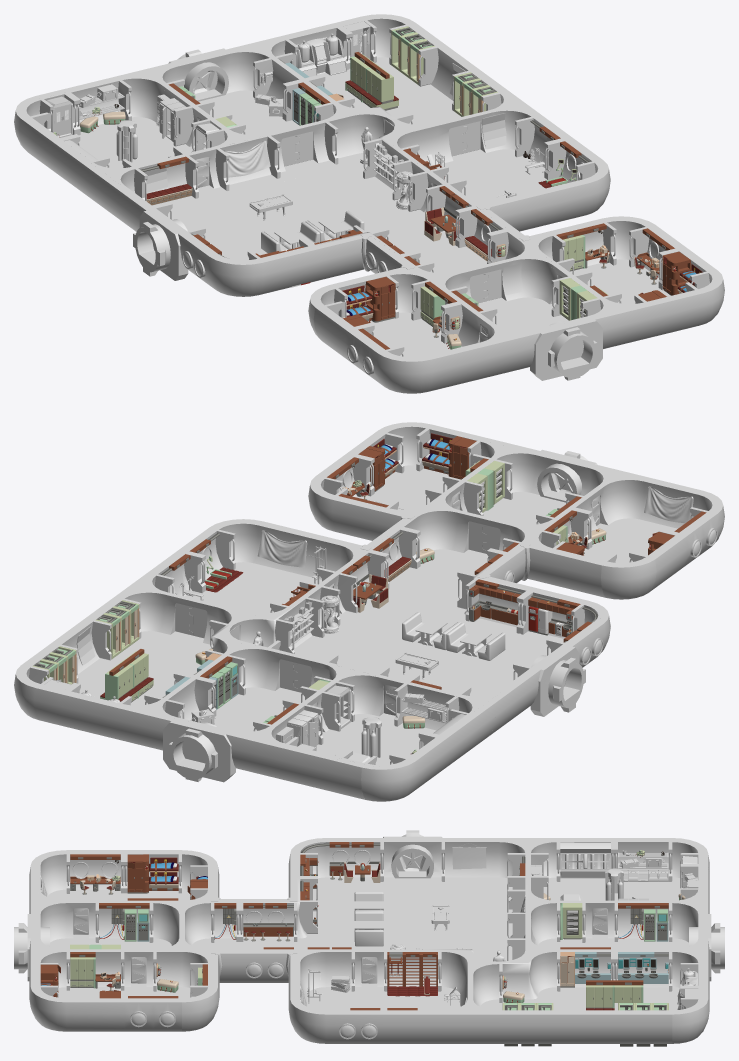
File: level_1.fbx
The picture shows the model from 3 angles, top to bottom: view 1: azimuth 30°, elevation 25°; view 2: azimuth 150°, elevation 25°; view 3: azimuth 270°, elevation 25°; orthographic projection. The views are drawn at different scales.
Visible parts, largest first — view 1: M_1_INTERIOR_WALL, M_1_EXTERIOR_WALL, M_1_POL, M_1_INT_DOOR, M_1_INT_DOOR.003, M_1_INT_DOOR.005, M_1_USE_OBJECT, M_1_USE_OBJECT.002; view 2: M_1_INTERIOR_WALL, M_1_EXTERIOR_WALL, M_1_POL, M_1_INT_DOOR.003, M_1_INT_DOOR.005, M_1_INT_DOOR, M_1_USE_OBJECT; view 3: M_1_INTERIOR_WALL, M_1_EXTERIOR_WALL, M_1_POL, M_1_USE_OBJECT.001, M_1_USE_OBJECT, M_1_USE_OBJECT.003, M_1_INT_DOOR.004, M_1_INT_DOOR.006, M_1_INT_DOOR.001, M_1_INT_DOOR.007.
Part boxes in pixels (x1,y1,x2,y2): M_1_INTERIOR_WALL: (23,17,715,380); M_1_EXTERIOR_WALL: (14,14,724,393); M_1_POL: (79,57,670,353); M_1_INT_DOOR: (281,131,313,166); M_1_INT_DOOR.003: (448,121,480,156); M_1_INT_DOOR.005: (469,269,501,303); M_1_USE_OBJECT: (116,120,137,162); M_1_USE_OBJECT.002: (344,21,370,59); M_1_INTERIOR_WALL: (23,425,715,782); M_1_EXTERIOR_WALL: (14,422,724,801); M_1_POL: (77,465,677,765); M_1_INT_DOOR.003: (175,603,207,638); M_1_INT_DOOR.005: (468,521,500,553); M_1_INT_DOOR: (280,659,311,692); M_1_USE_OBJECT: (361,717,381,757); M_1_INTERIOR_WALL: (14,834,724,1046); M_1_EXTERIOR_WALL: (29,838,709,1043); M_1_POL: (48,877,688,1010); M_1_USE_OBJECT.001: (560,842,610,878); M_1_USE_OBJECT: (605,868,623,900); M_1_USE_OBJECT.003: (70,874,120,891); M_1_INT_DOOR.004: (361,957,377,983); M_1_INT_DOOR.006: (131,957,146,983); M_1_INT_DOOR.001: (592,908,607,934); M_1_INT_DOOR.007: (73,908,88,934).
Size of the model in its own units: 30.7 by 49.79 by 3.44.
